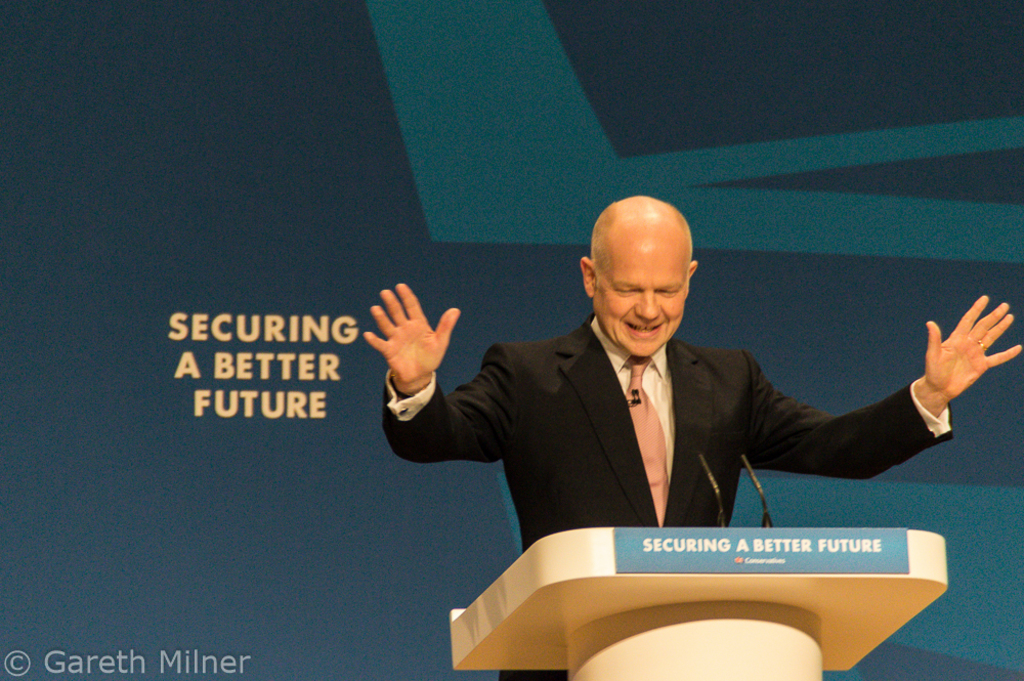Human_hand: (924, 295, 1023, 403), (364, 285, 462, 381)
